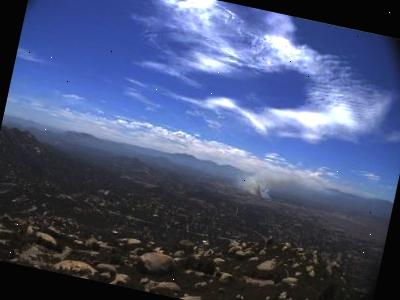smoke: (232, 161, 314, 210)
